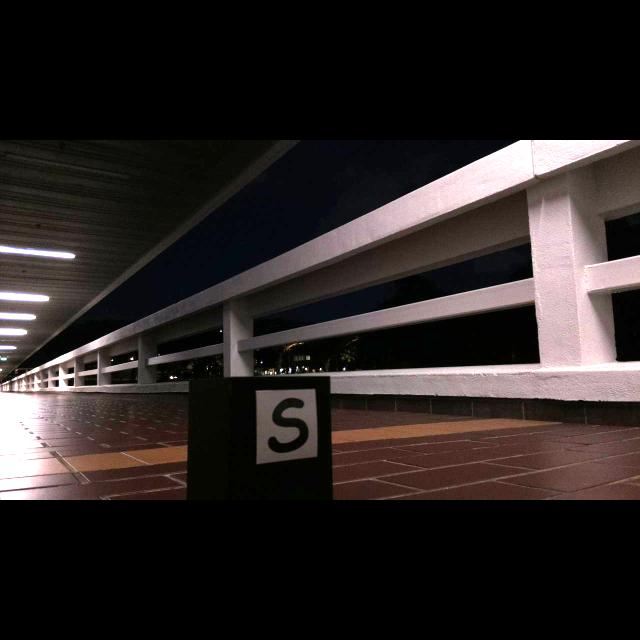S: (267, 398, 309, 453)
